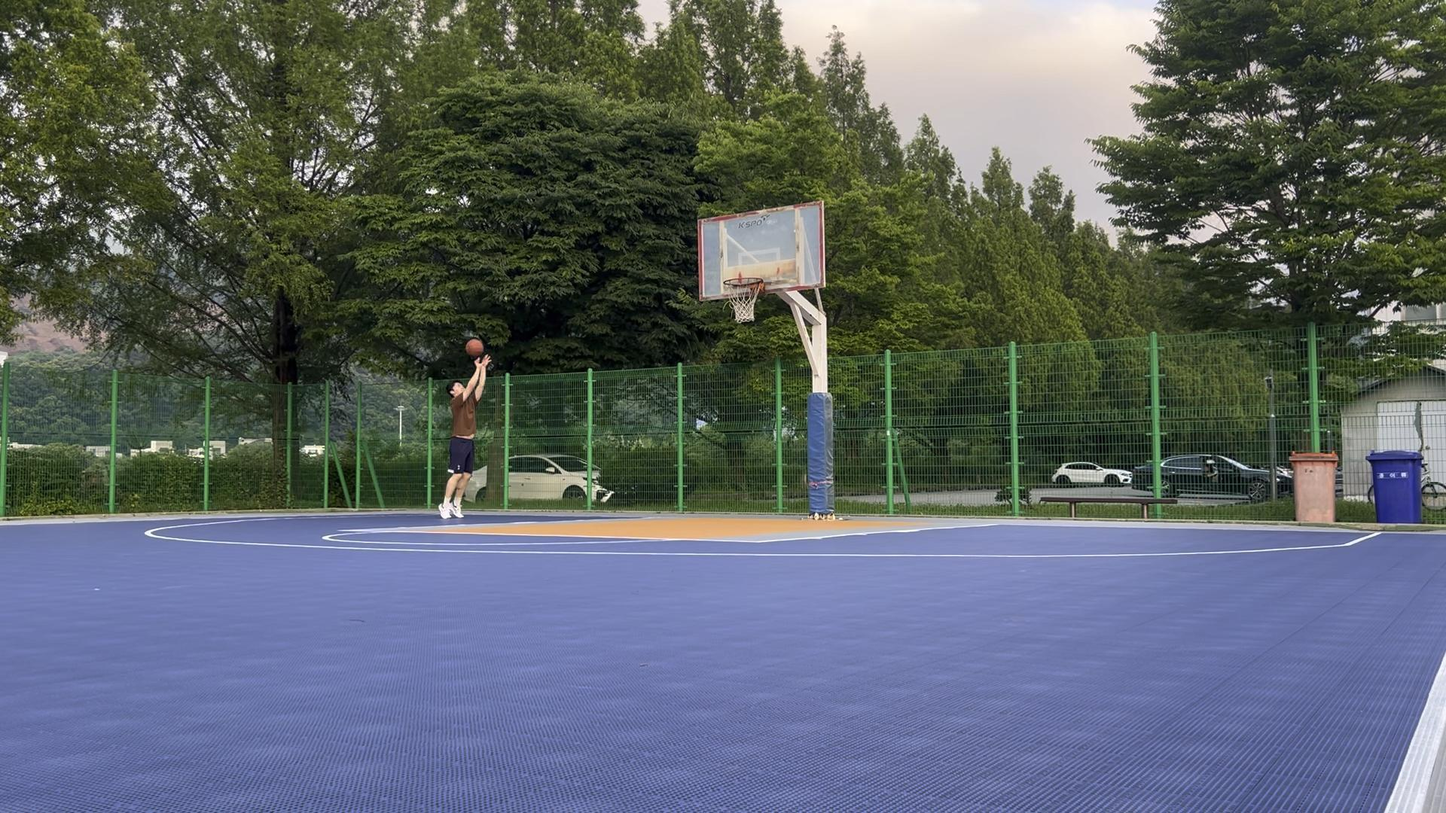ball: (465, 338, 484, 358)
human: (437, 353, 492, 520)
rim: (723, 277, 764, 324)
